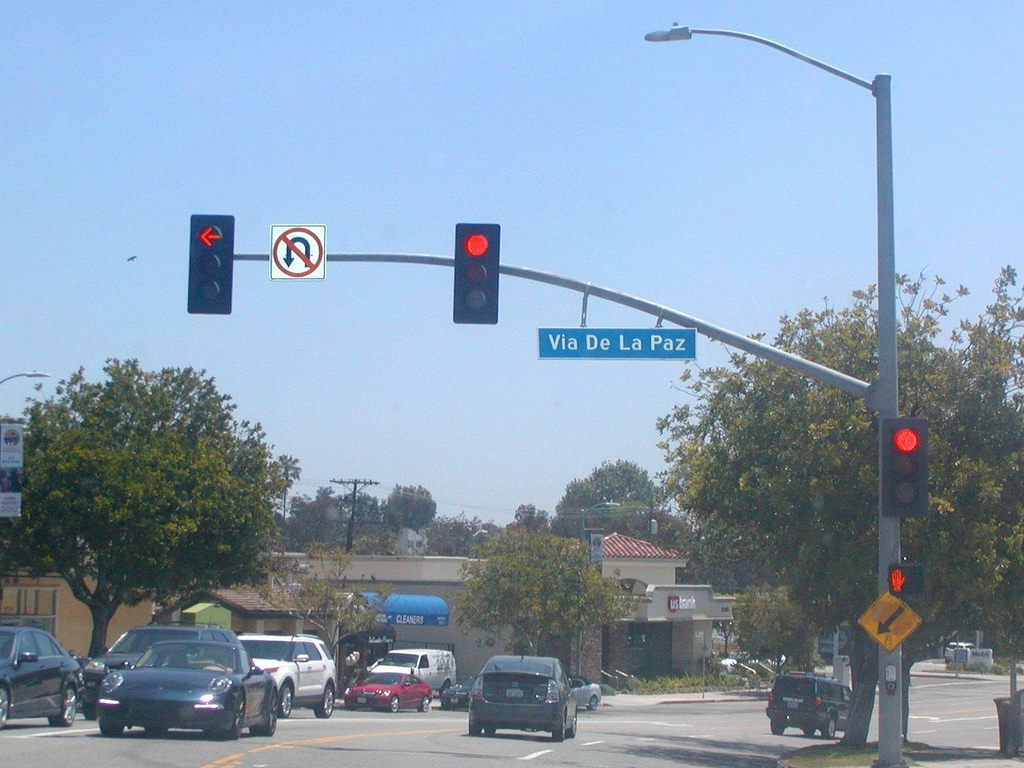traffic_light: (451, 221, 502, 327), (186, 213, 237, 317), (880, 417, 930, 519)
